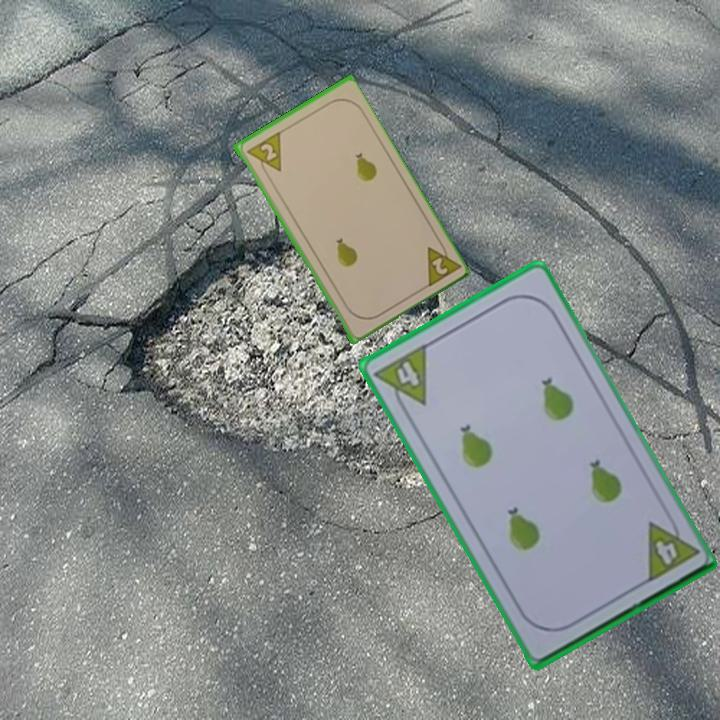2p: (421, 236, 462, 291), (242, 129, 284, 180)
4p: (370, 340, 430, 418), (641, 509, 700, 586)
